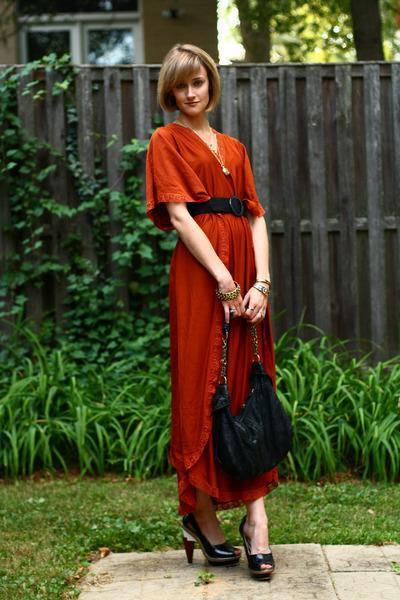dress: (142, 117, 284, 517)
